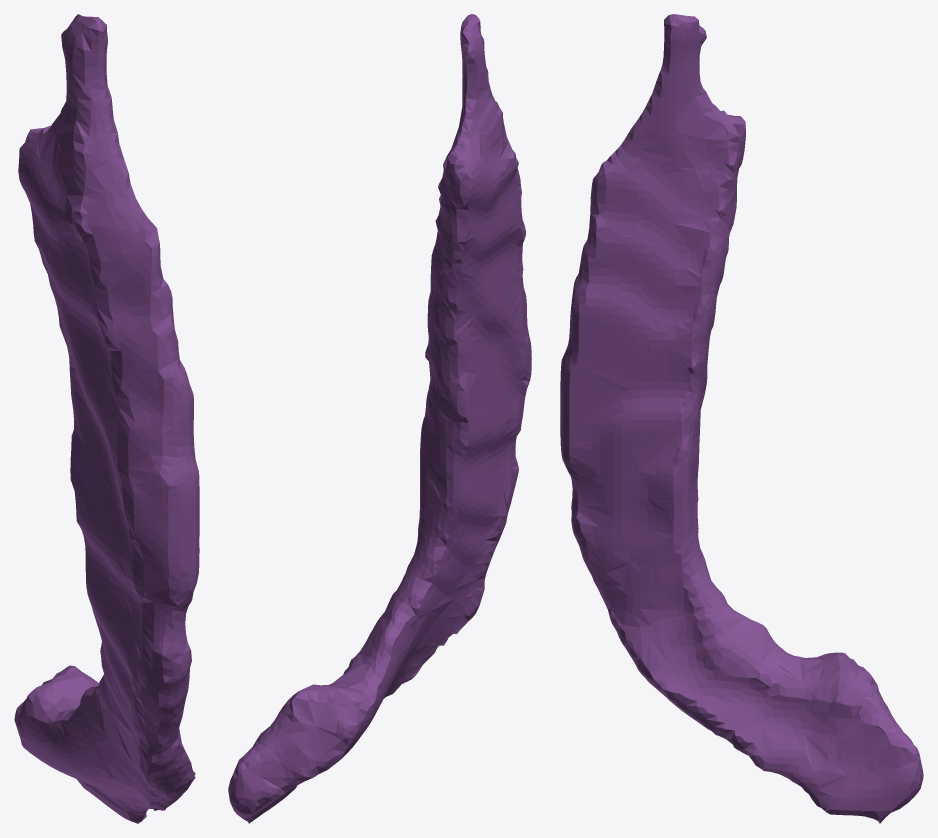
The model's file is Model_63_RH__Area_29d_of_cortex_(A29d).obj.
3 views of the same model, side by side, from view 1: azimuth 30°, elevation 25°; view 2: azimuth 150°, elevation 25°; view 3: azimuth 270°, elevation 25° (orthographic). The views are drawn at different scales.
Size of the model in its own units: 1.91 by 8.9 by 3.89.
